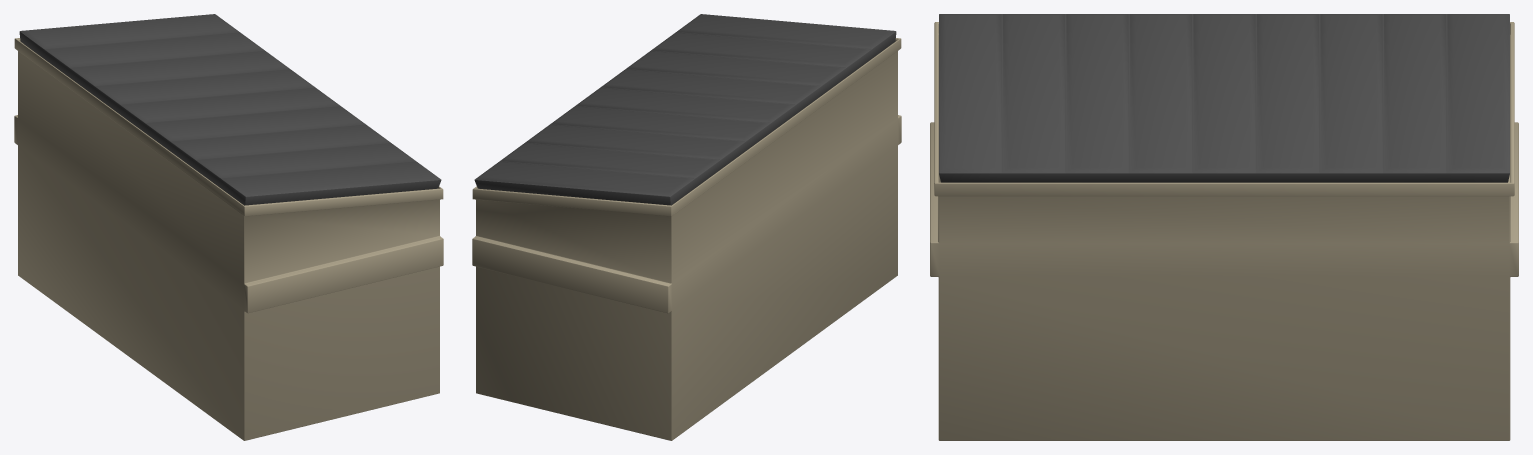
File: Dumpster.glb
3 views of the same model, side by side, from view 1: azimuth 30°, elevation 25°; view 2: azimuth 150°, elevation 25°; view 3: azimuth 270°, elevation 25° (orthographic). The views are drawn at different scales.
Visible parts, largest first — view 1: Cube; view 2: Cube; view 3: Cube.
Boxes of the visible parts, bbox=[...] form: Cube: bbox=[14, 14, 443, 440]; Cube: bbox=[472, 14, 901, 440]; Cube: bbox=[930, 14, 1518, 440].
Bounding box in the file's own units: 2.03 × 2.39 × 4.12.
